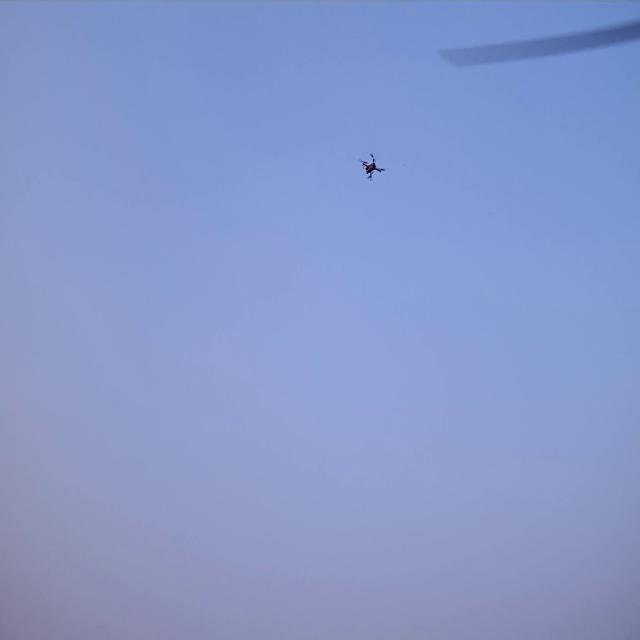UAV: (362, 155, 383, 180)
